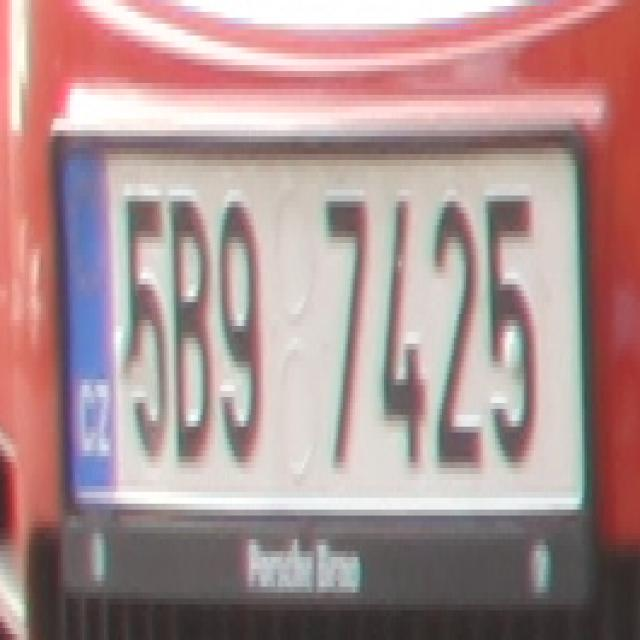2: (432, 190, 483, 462)
4: (379, 202, 425, 474)
5: (483, 184, 539, 456), (126, 190, 169, 450)
7: (321, 196, 370, 468)
9: (213, 184, 263, 456)
B: (169, 184, 213, 456)
